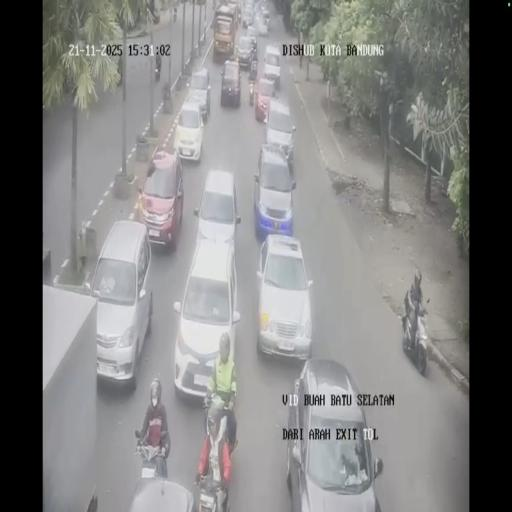3: (212, 2, 240, 62)
car: (287, 358, 384, 508), (173, 236, 239, 399), (90, 220, 152, 382), (255, 232, 313, 362), (139, 147, 185, 248), (194, 169, 240, 251), (265, 97, 295, 165), (187, 67, 211, 120), (220, 59, 242, 107), (263, 43, 281, 88), (236, 33, 255, 69), (242, 1, 254, 28), (260, 2, 270, 24)
truck: (194, 401, 236, 510), (402, 283, 430, 374), (250, 55, 258, 79), (248, 78, 254, 105)
